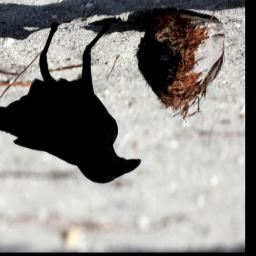Crow: (0, 15, 142, 184)
